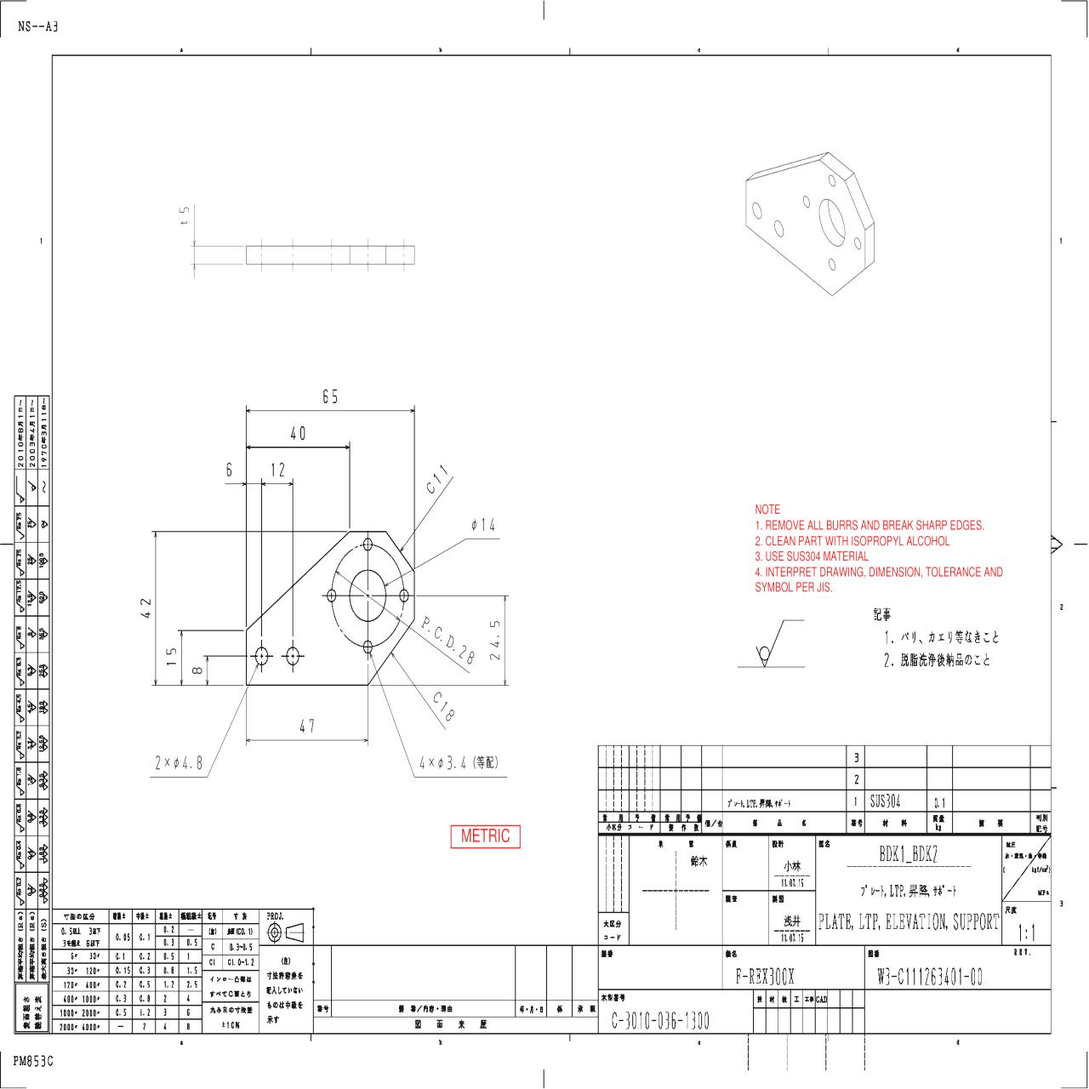basic_dimension: (489, 620, 501, 661), (322, 387, 341, 404), (270, 462, 285, 481), (139, 598, 151, 620), (290, 426, 307, 441), (298, 718, 314, 733), (165, 648, 177, 665), (225, 461, 232, 477), (191, 667, 202, 674)
dimension_chamfer_symbol: (432, 689, 456, 724), (424, 462, 448, 497)
dimension_chamfer_text: (439, 699, 456, 724), (432, 463, 449, 486)
dimension_diameter_symbol: (437, 755, 467, 771), (173, 755, 203, 770), (470, 517, 495, 534)
dimension_diameter_text: (182, 755, 202, 770), (447, 756, 467, 770), (482, 516, 495, 532)
dimension_thickness_symbol: (179, 205, 189, 226)
dimension_thickness_text: (179, 206, 190, 215)
